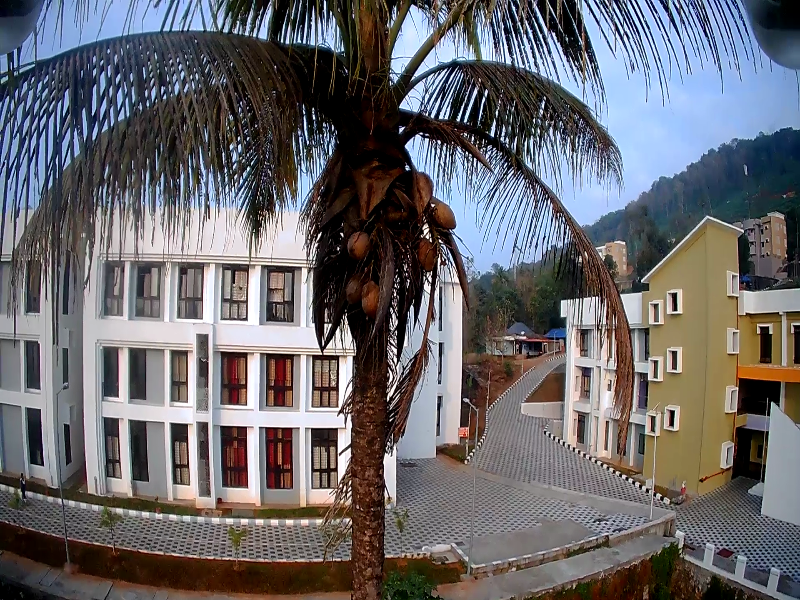coconut: (407, 229, 436, 268), (358, 276, 382, 318), (430, 198, 457, 233), (338, 273, 358, 305), (344, 234, 371, 256)
